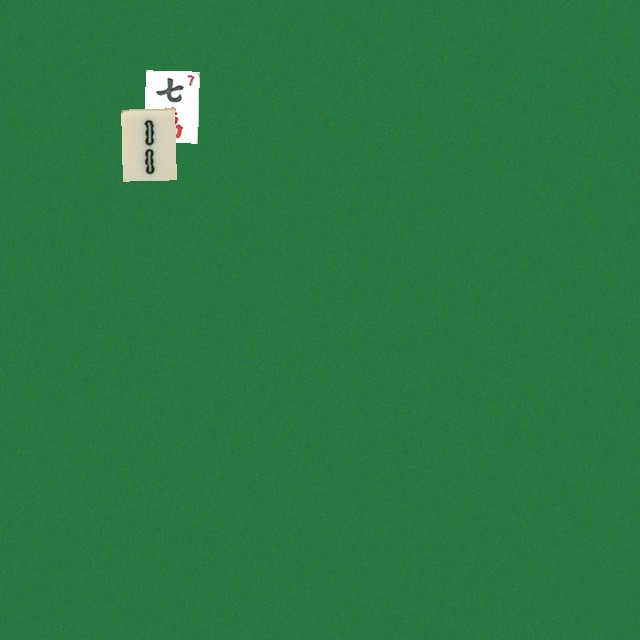tile: (144, 70, 198, 142), (121, 108, 175, 180)
